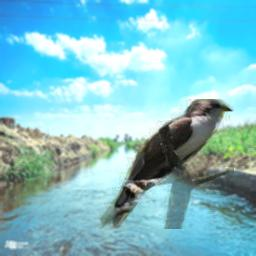Cuckoo: (98, 99, 234, 229)
